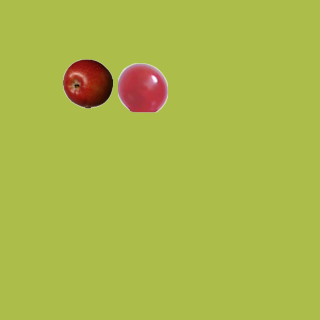Apple Braeburn: (62, 58, 112, 108)
Redcurrant: (117, 62, 167, 112)
